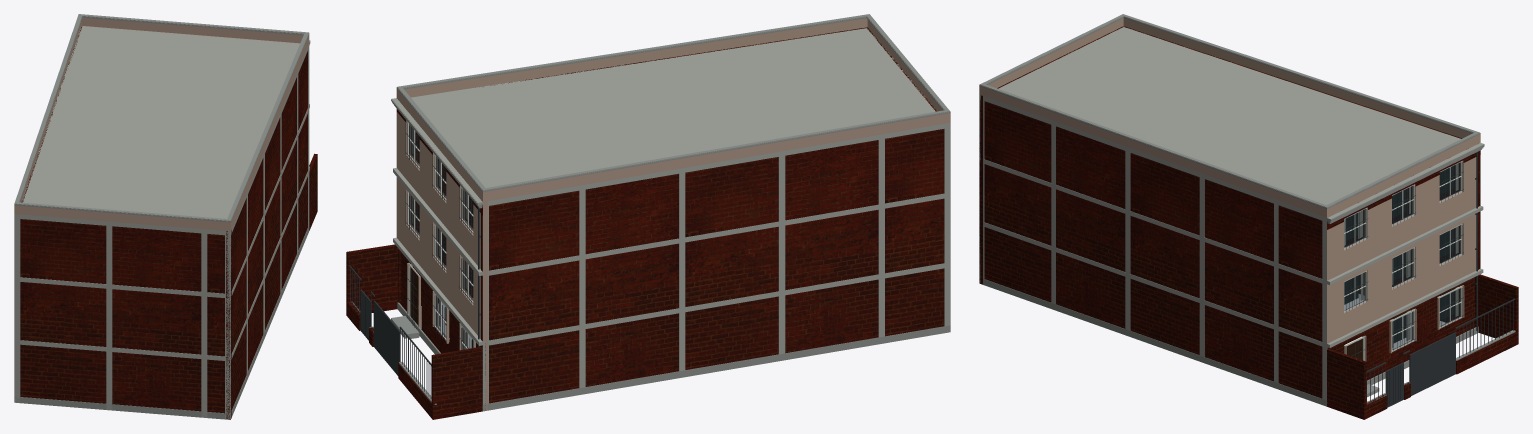
Rendered from building.glb.
3 views of the same model, side by side, from view 1: azimuth 30°, elevation 25°; view 2: azimuth 150°, elevation 25°; view 3: azimuth 270°, elevation 25° (orthographic). The views are drawn at different scales.
Parts seen in each view (by area): view 1: roof/main:0/roof_slab#0001, main:0/edge0/z0/main:0/edge0/z0/wall_0_0/core0, main:0/edge1/z0/main:0/edge1/z0/wall_0_0/core0, roof/main:0/parapet#0001, roof/main:0/parapet_cap#0002, roof/main:0/parapet_cap#0001, main:0/edge0/z0/plinth#0001, main:0/edge0/z0/main:0/edge0/z0/beam_0_0/clip0, main:0/edge0/z0/main:0/edge0/z0/beam_1_0/clip0, main:0/edge0/z0/main:0/edge0/z0/beam_2_0/clip0, main:0/edge1/z0/plinth#0001, site/fence/0/wall#0001 (+16 smaller); view 2: main:0/edge3/z0/main:0/edge3/z0/wall_0_0, roof/main:0/roof_slab#0001, roof/main:0/parapet#0001, main:0/edge2/z0/main:0/edge2/z0/wall_1_0/core0, roof/main:0/parapet_cap#0002, main:0/edge3/z0/plinth#0001, site/fence/2/wall#0001, site/fence/0/wall#0001, main:0/edge3/z0/main:0/edge3/z0/beam_0_0, main:0/edge3/z0/main:0/edge3/z0/beam_1_0, main:0/edge3/z0/main:0/edge3/z0/beam_2_0, roof/main:0/parapet_cap#0001 (+8 smaller); view 3: main:0/edge1/z0/main:0/edge1/z0/wall_0_0/core0, roof/main:0/roof_slab#0001, main:0/edge2/z0/main:0/edge2/z0/wall_1_0/core0, roof/main:0/parapet#0001, roof/main:0/parapet_cap#0002, main:0/edge1/z0/plinth#0001, site/fence/0/wall#0001, site/fence/2/wall#0001, site/fence/1/garage_door#0001, roof/main:0/parapet_cap#0001, main:0/edge1/z0/main:0/edge1/z0/beam_1_0/core0, main:0/edge1/z0/main:0/edge1/z0/beam_0_0/core0 (+19 smaller).
Part boxes in pixels (x1,y1,x2,y2): roof/main:0/roof_slab#0001: (14,26,307,234); main:0/edge0/z0/main:0/edge0/z0/wall_0_0/core0: (20,219,224,413); main:0/edge1/z0/main:0/edge1/z0/wall_0_0/core0: (231,51,307,409); roof/main:0/parapet#0001: (14,17,309,231); roof/main:0/parapet_cap#0002: (14,14,308,221); roof/main:0/parapet_cap#0001: (14,14,309,222); main:0/edge0/z0/plinth#0001: (14,397,230,419); main:0/edge0/z0/main:0/edge0/z0/beam_0_0/clip0: (14,340,230,361); main:0/edge0/z0/main:0/edge0/z0/beam_1_0/clip0: (14,277,230,298); main:0/edge0/z0/main:0/edge0/z0/beam_2_0/clip0: (14,214,230,235); main:0/edge1/z0/plinth#0001: (230,226,309,419); site/fence/0/wall#0001: (309,153,317,230); main:0/edge3/z0/main:0/edge3/z0/wall_0_0: (481,129,944,403); roof/main:0/roof_slab#0001: (411,28,950,204); roof/main:0/parapet#0001: (396,18,950,201); main:0/edge2/z0/main:0/edge2/z0/wall_1_0/core0: (396,112,480,338); roof/main:0/parapet_cap#0002: (397,14,950,190); main:0/edge3/z0/plinth#0001: (483,325,950,411); site/fence/2/wall#0001: (431,346,482,419); site/fence/0/wall#0001: (346,244,397,312); main:0/edge3/z0/main:0/edge3/z0/beam_0_0: (482,262,950,346); main:0/edge3/z0/main:0/edge3/z0/beam_1_0: (482,192,950,276); main:0/edge3/z0/main:0/edge3/z0/beam_2_0: (487,123,950,205); roof/main:0/parapet_cap#0001: (396,17,950,192); main:0/edge1/z0/main:0/edge1/z0/wall_0_0/core0: (984,101,1330,398); roof/main:0/roof_slab#0001: (987,26,1460,220); main:0/edge2/z0/main:0/edge2/z0/wall_1_0/core0: (1327,157,1476,343); roof/main:0/parapet#0001: (979,18,1480,217); roof/main:0/parapet_cap#0002: (979,14,1479,207); main:0/edge1/z0/plinth#0001: (980,279,1326,406); site/fence/0/wall#0001: (1327,348,1366,419); site/fence/2/wall#0001: (1478,274,1518,344); site/fence/1/garage_door#0001: (1409,332,1455,395); roof/main:0/parapet_cap#0001: (979,16,1480,208); main:0/edge1/z0/main:0/edge1/z0/beam_1_0/core0: (979,158,1326,284); main:0/edge1/z0/main:0/edge1/z0/beam_0_0/core0: (979,221,1327,347).
Size of the model in its own units: 20.23 by 9.19 by 22.27.
Materials: 10 (2 with a texture image).
